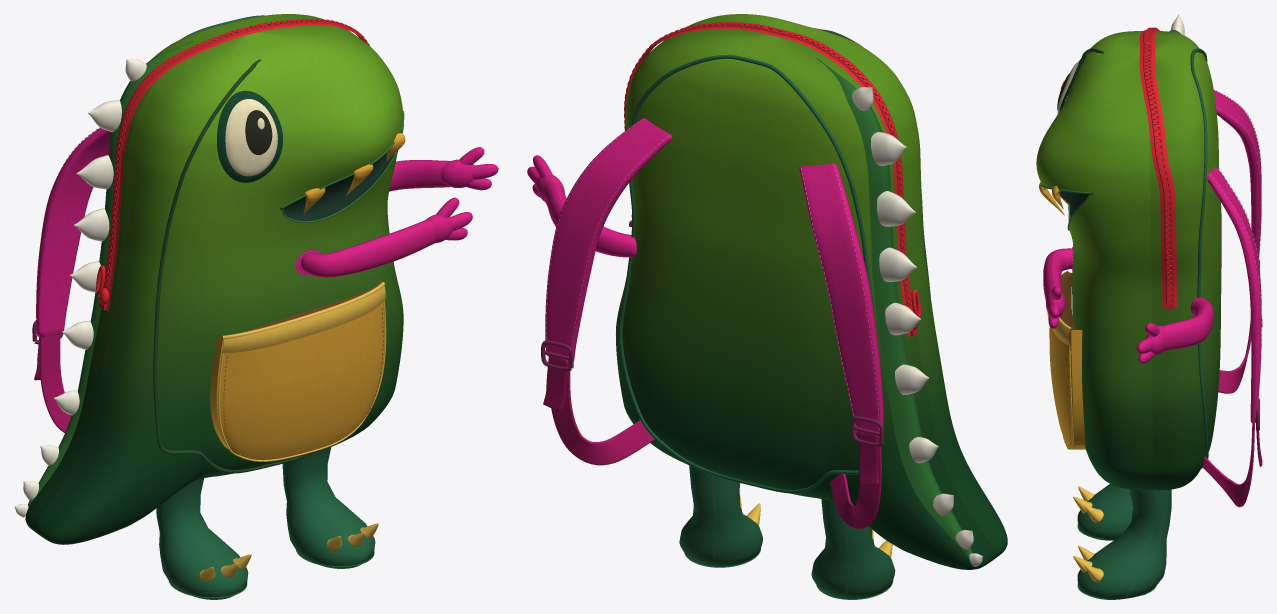
Rendered from Maleta-Quelec.glb.
3 renders of one model, left to right at view 1: azimuth 30°, elevation 25°; view 2: azimuth 150°, elevation 25°; view 3: azimuth 270°, elevation 25°, orthographic. The views are drawn at different scales.
Visible parts, largest first — view 1: Lona verde | vientre y testuz (×4), Lona · ocre amarillo (×2), Lona · fucsia (×3), Lona · verde bosque (×2), Espinas · lona marfil, Apliques · amarillo dorado, Cinta de cremallera · rojo (×2), Lomo continuo de lona verde, Vivo · verde oscuro, Aplique de ojo · marfil, Interior de boca · verde noche, Cincha · fucsia profundo (+3 smaller); view 2: Lona verde | vientre y testuz (×5), Lona · fucsia (×3), Lona · verde bosque (×3), Lomo continuo de lona verde, Espinas · lona marfil, Cincha · fucsia profundo (×2), Cinta de cremallera · rojo (×2), Cinta de regulación en frambuesa (×2), Cursor · rojo carmín; view 3: Lona verde | vientre y testuz (×5), Lona · verde bosque (×3), Lona · fucsia (×4), Cinta de cremallera · rojo (×2), Lona · ocre amarillo (×2), Cincha · fucsia profundo (×2), Apliques · amarillo dorado (×3), Cursor · rojo carmín, Forro interior del bolsillo, Interior de boca · verde noche.
Boxes of the visible parts, x1,y1,x2,y2 form: Lona verde | vientre y testuz (×4): (25, 14, 403, 544); Lona · ocre amarillo (×2): (210, 133, 405, 460); Lona · fucsia (×3): (36, 128, 498, 337); Lona · verde bosque (×2): (156, 447, 375, 599); Espinas · lona marfil: (14, 59, 146, 517); Apliques · amarillo dorado: (218, 282, 386, 461); Cinta de cremallera · rojo (×2): (103, 18, 369, 311); Lomo continuo de lona verde: (28, 41, 193, 506); Vivo · verde oscuro: (153, 59, 310, 473); Aplique de ojo · marfil: (225, 99, 277, 176); Interior de boca · verde noche: (280, 130, 401, 221); Cincha · fucsia profundo: (39, 334, 71, 432); Lona verde | vientre y testuz (×5): (615, 14, 1007, 569); Lona · fucsia (×3): (527, 118, 883, 436); Lona · verde bosque (×3): (619, 55, 895, 598); Lomo continuo de lona verde: (816, 58, 972, 566); Espinas · lona marfil: (852, 87, 982, 566); Cincha · fucsia profundo (×2): (551, 362, 881, 528); Cinta de cremallera · rojo (×2): (624, 21, 913, 336); Cinta de regulación en frambuesa (×2): (543, 355, 879, 485); Cursor · rojo carmín: (624, 22, 912, 335); Lona verde | vientre y testuz (×5): (1036, 31, 1221, 490); Lona · verde bosque (×3): (1077, 48, 1208, 599); Lona · fucsia (×4): (1043, 90, 1261, 422); Cinta de cremallera · rojo (×2): (1139, 27, 1177, 307); Lona · ocre amarillo (×2): (1039, 182, 1085, 449); Cincha · fucsia profundo (×2): (1202, 318, 1254, 507); Apliques · amarillo dorado (×3): (1047, 311, 1103, 581); Cursor · rojo carmín: (1143, 28, 1173, 303); Forro interior del bolsillo: (1059, 271, 1077, 329); Interior de boca · verde noche: (1051, 189, 1092, 217).
Size of the model in its own units: 0.45 by 0.5 by 0.2.
Materials: 21 (18 with a texture image).
